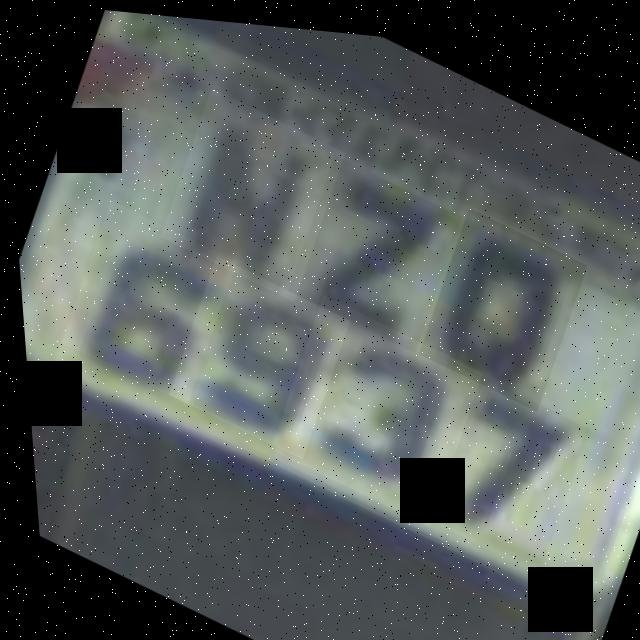3: (253, 284, 486, 523)
6: (48, 193, 241, 405)
7: (383, 347, 591, 566)
9: (154, 247, 353, 458)
D: (404, 193, 593, 406)
N: (147, 79, 352, 300)
Z: (275, 144, 466, 349)
